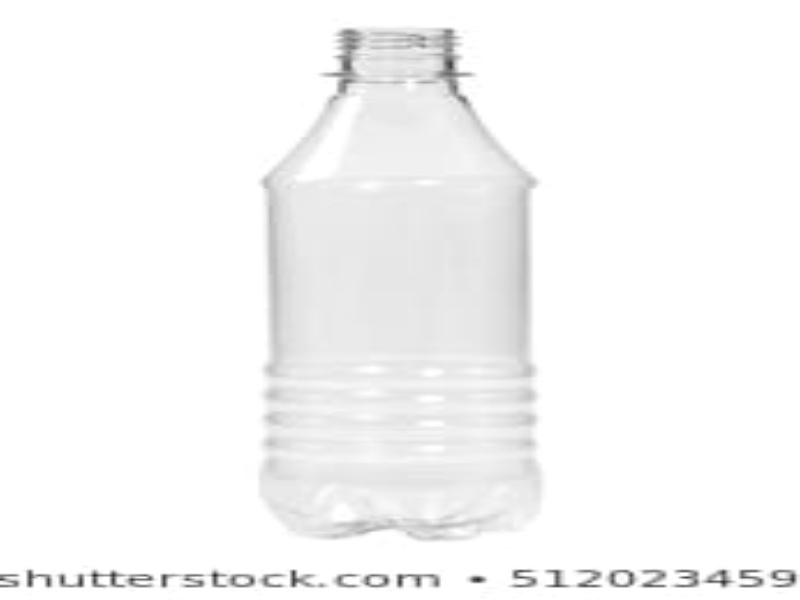plastic-bottle: (248, 13, 554, 542)
